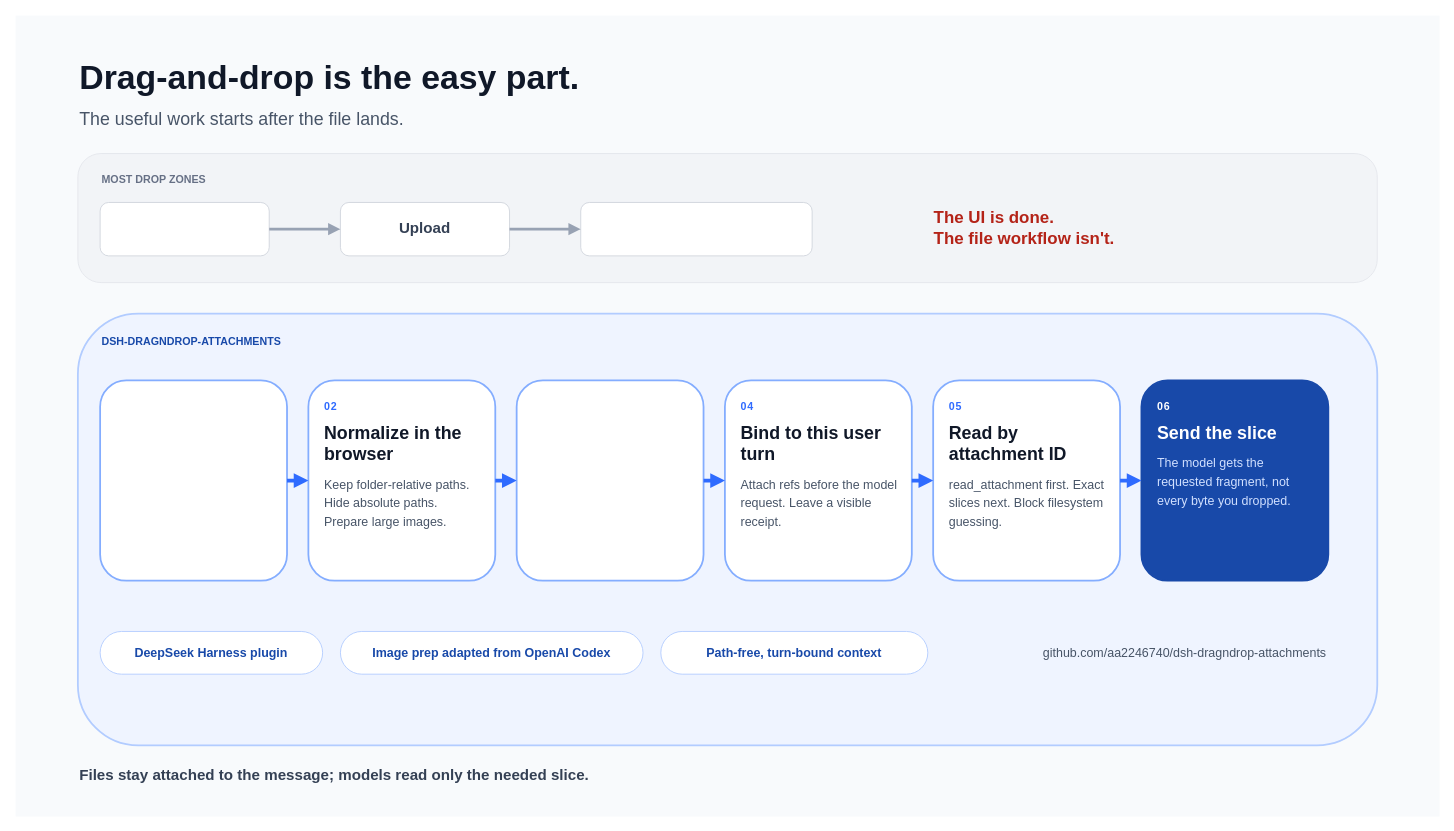
Image size: 1454x831. Some labels were removed from this diagram. Each missing label, with the centre of its shape:
01 Capture Files, screenshots, ZIP, Office, and whole folders.: the point at 193,480
03 Store and index locally Content hashes. Safe ZIP limits. Office parsing.: the point at 609,480
Drop: the point at 184,229
Put the whole file in context: the point at 696,229
